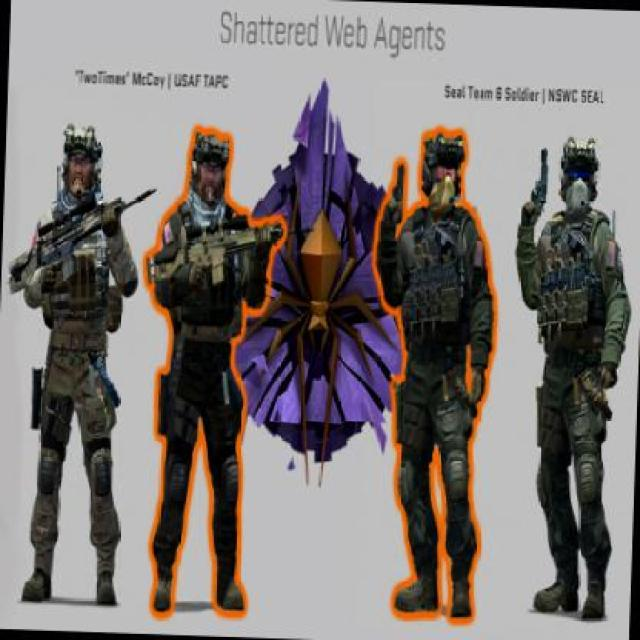MIL_Pax: (499, 131, 639, 623), (364, 129, 502, 622), (141, 131, 273, 615), (13, 123, 135, 609)
